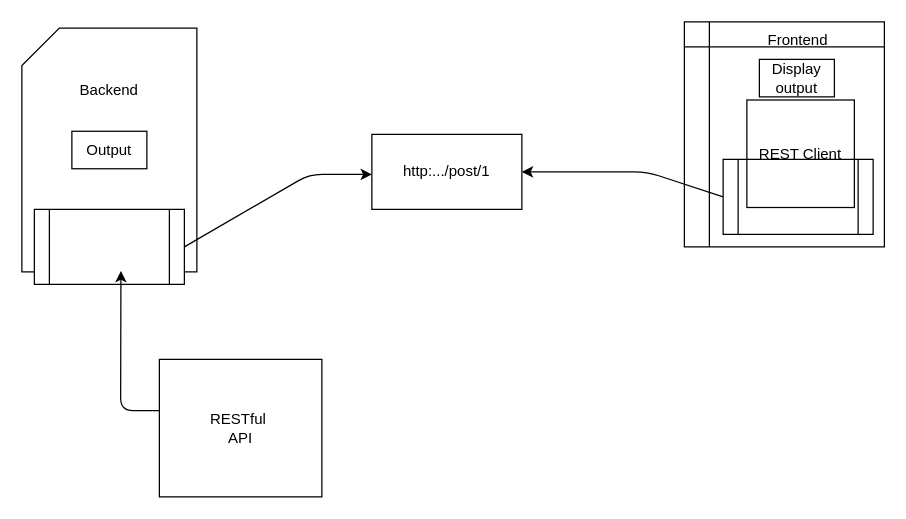
The diagram is 906 pixels wide and 519 high, and some of its shapes have lost their labels. The centre of each missing label's shape, as x and y in pixels:
GET method: [797,196]
POST method: [108,246]
